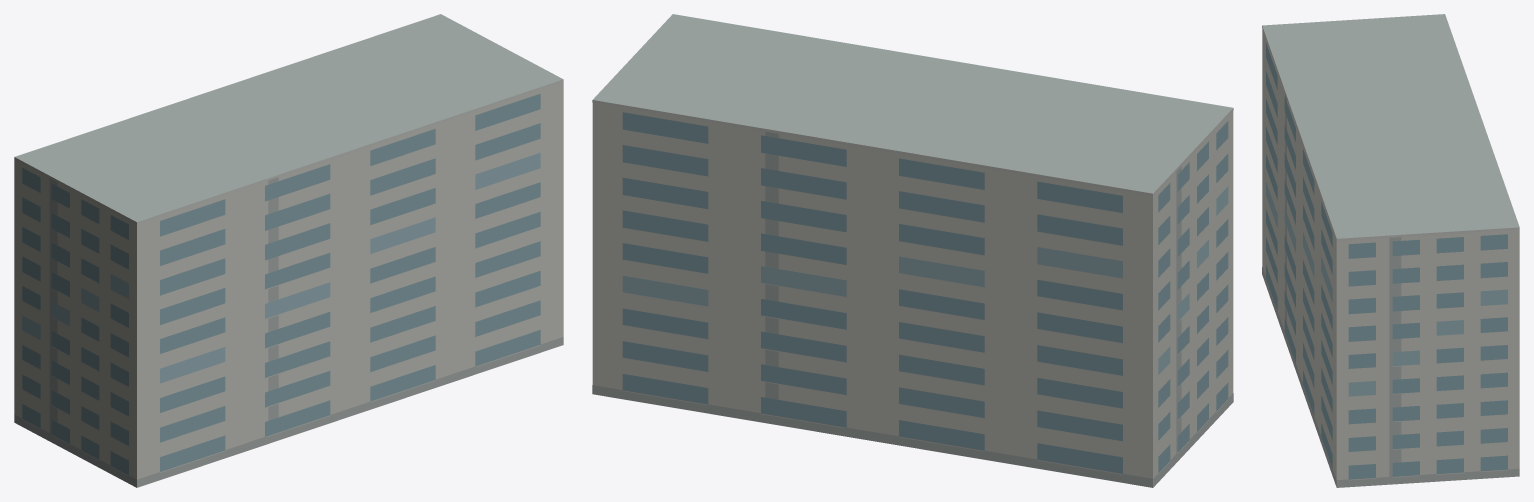
The model's file is residential-d6e43b62-b4b7-4a83-b571-650bbc5cc023.glb.
The picture shows the model from 3 angles, left to right: view 1: azimuth 30°, elevation 25°; view 2: azimuth 150°, elevation 25°; view 3: azimuth 270°, elevation 25°; orthographic projection. The views are drawn at different scales.
Visible parts, largest first — view 1: residential-d6e43b62-b4b7-4a83-b571-650bbc5cc023.tmp; view 2: residential-d6e43b62-b4b7-4a83-b571-650bbc5cc023.tmp; view 3: residential-d6e43b62-b4b7-4a83-b571-650bbc5cc023.tmp.
Boxes of the visible parts, bbox=[...] form: residential-d6e43b62-b4b7-4a83-b571-650bbc5cc023.tmp: bbox=[14, 14, 563, 487]; residential-d6e43b62-b4b7-4a83-b571-650bbc5cc023.tmp: bbox=[592, 14, 1233, 487]; residential-d6e43b62-b4b7-4a83-b571-650bbc5cc023.tmp: bbox=[1262, 14, 1519, 487].
Bounding box in the file's own units: 52.27 × 27 × 25.31.
